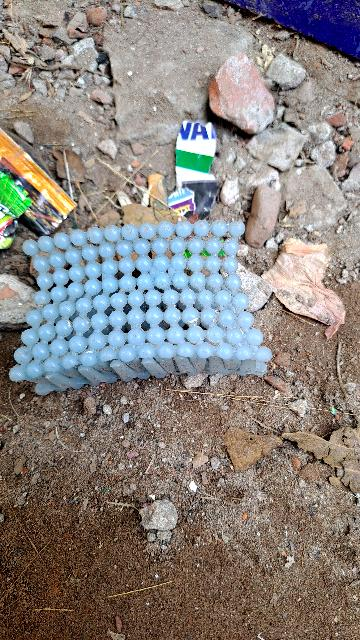hardplastic: (14, 211, 282, 410)
